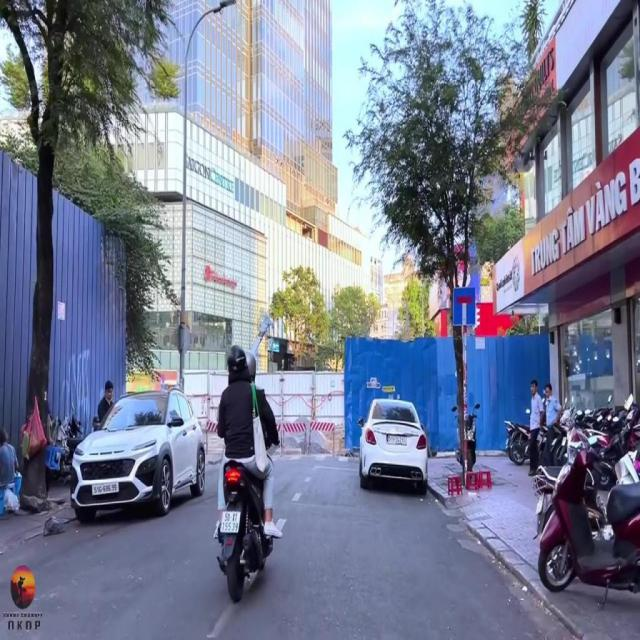khac: (454, 287, 475, 324)
